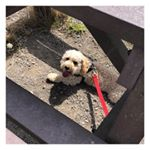puppy: (43, 46, 92, 88)
